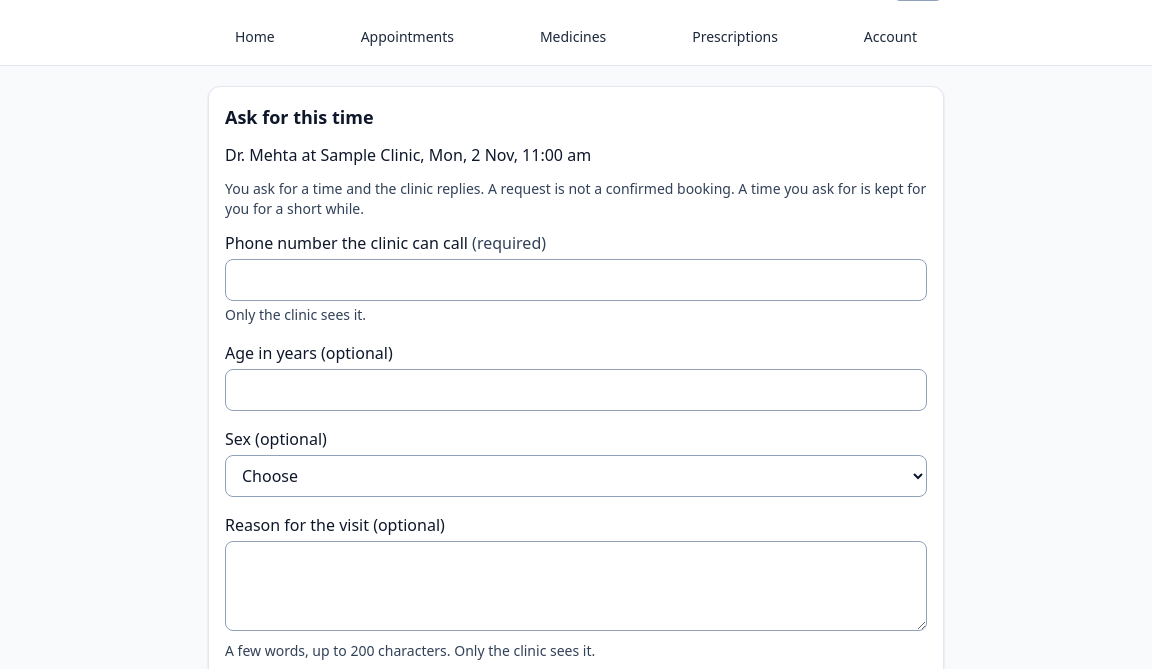
Test case: the request form (M6b-P4, FR-PUB-02, FR-BKG-01) › R4: a time that was just taken says so and offers the page again
This screenshot has width=1152, height=669.
Check: the navigation bar is shown, box 0,9 -> 1151,65
Step 1. Type "9000000601" into the field labelled "Phone number the clinic can call (required)" → x=576, y=280, box 225,259 -> 927,301
(page scrolled)
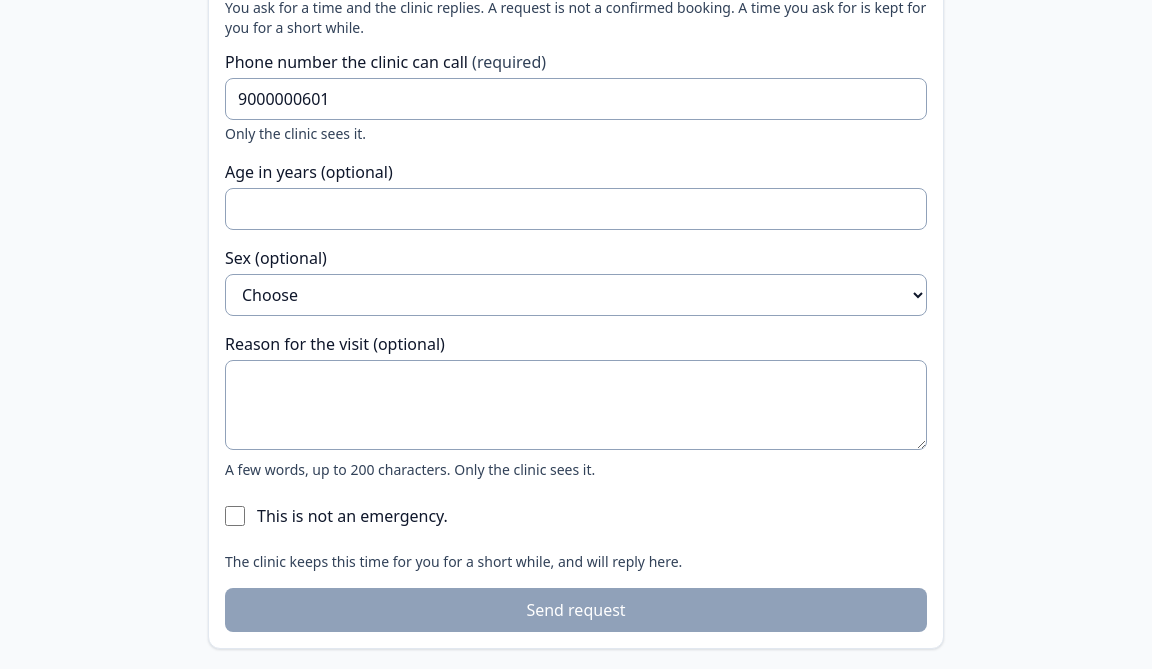
Step 2. Click the checkbox labelled "This is not an emergency." → x=235, y=516, box 225,506 -> 245,526
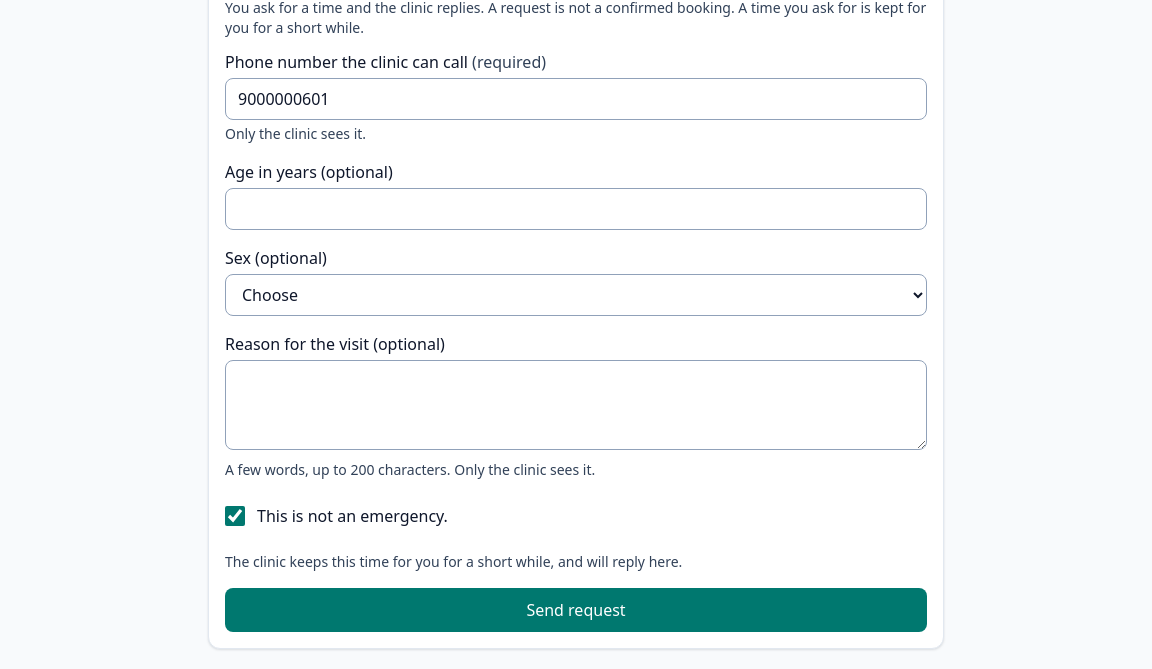
Step 3. Click the button "Send request" → x=576, y=610, box 225,588 -> 927,632
(page scrolled)
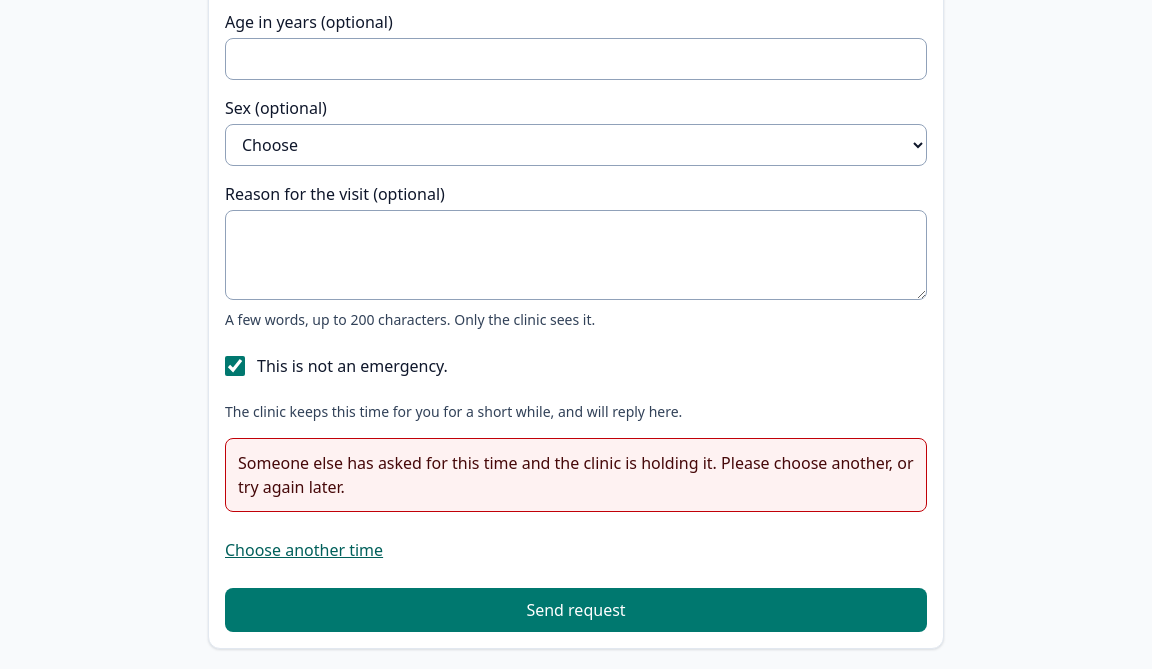
Check: the message shows "clinic is holding it", box 238,452 -> 914,498
